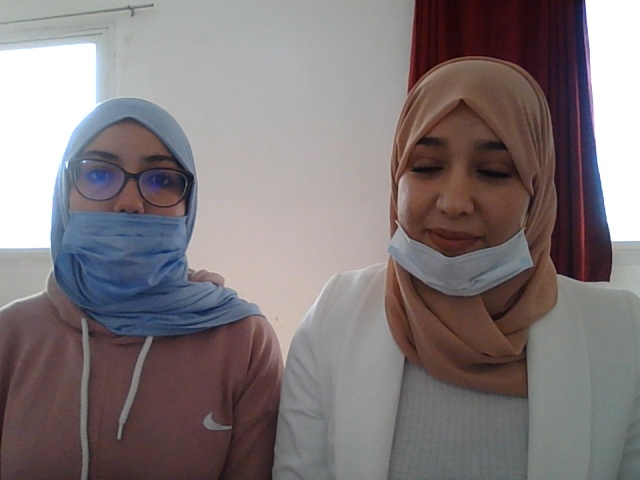mask_weared_incorrect: (365, 50, 561, 301), (54, 107, 210, 305)
